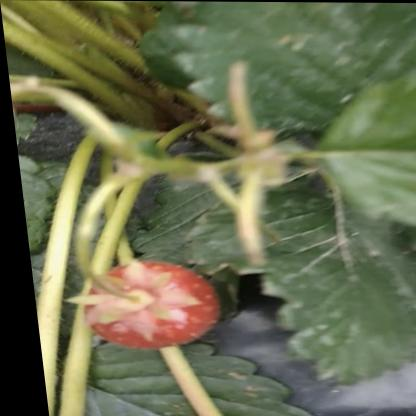ripe: (68, 256, 234, 345)
